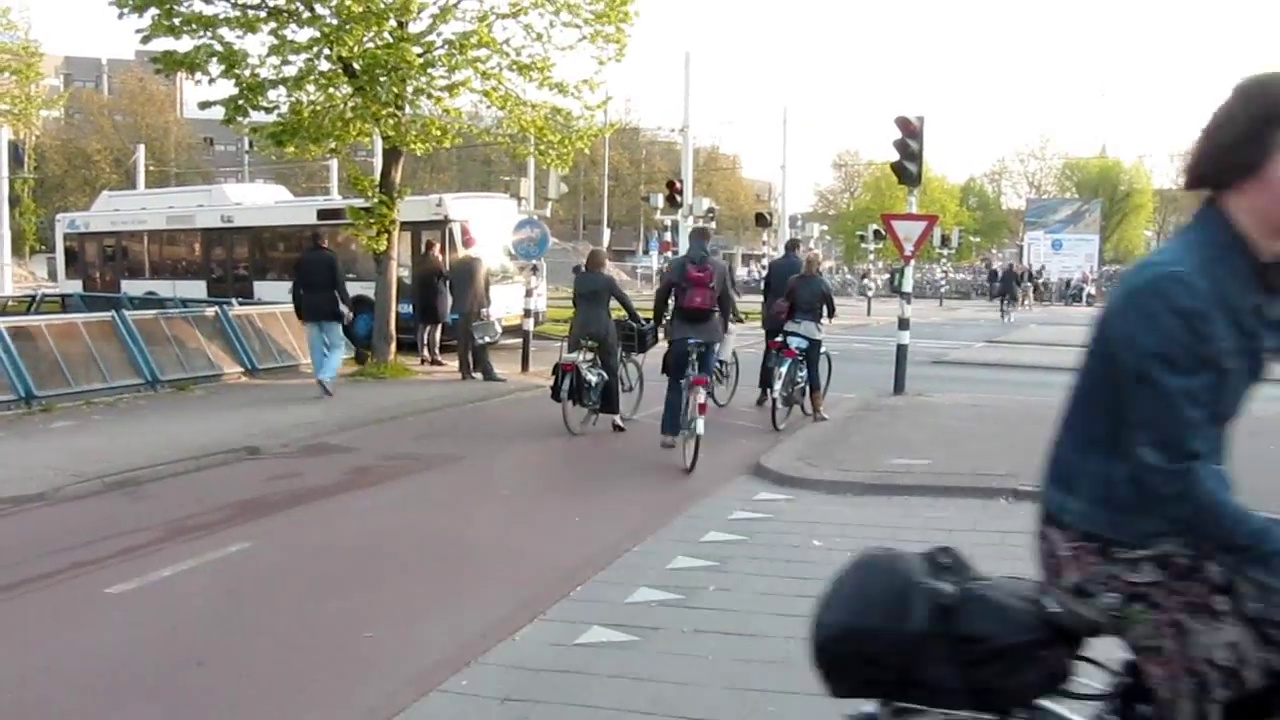cyclist_back: (655, 219, 728, 484), (558, 237, 653, 436), (774, 250, 835, 442), (997, 260, 1019, 326)
